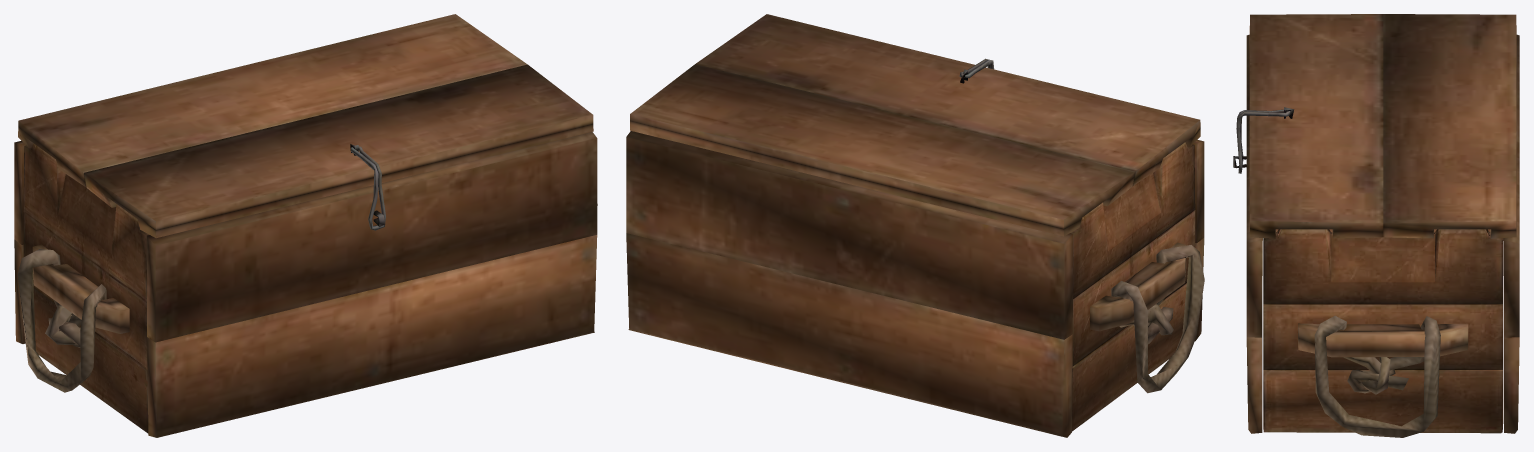
The model's file is crate.glb.
3 views of the same model, side by side, from view 1: azimuth 30°, elevation 25°; view 2: azimuth 150°, elevation 25°; view 3: azimuth 270°, elevation 25° (orthographic). The views are drawn at different scales.
Parts seen in each view (by area): view 1: wooden_crate_01, wooden_crate_01_lid, wooden_crate_01_latch; view 2: wooden_crate_01, wooden_crate_01_lid; view 3: wooden_crate_01_lid, wooden_crate_01, wooden_crate_01_latch.
Boxes of the visible parts, left/top/right/bottom form: wooden_crate_01: left=14, top=132, right=597, bottom=437; wooden_crate_01_lid: left=18, top=14, right=593, bottom=238; wooden_crate_01_latch: left=351, top=146, right=385, bottom=230; wooden_crate_01: left=626, top=131, right=1204, bottom=437; wooden_crate_01_lid: left=630, top=14, right=1200, bottom=236; wooden_crate_01_lid: left=1249, top=14, right=1516, bottom=238; wooden_crate_01: left=1233, top=34, right=1519, bottom=437; wooden_crate_01_latch: left=1236, top=109, right=1290, bottom=173.
Size of the model in its own units: 0.8254 by 0.3472 by 0.4047.
1 material, 1 textured.
